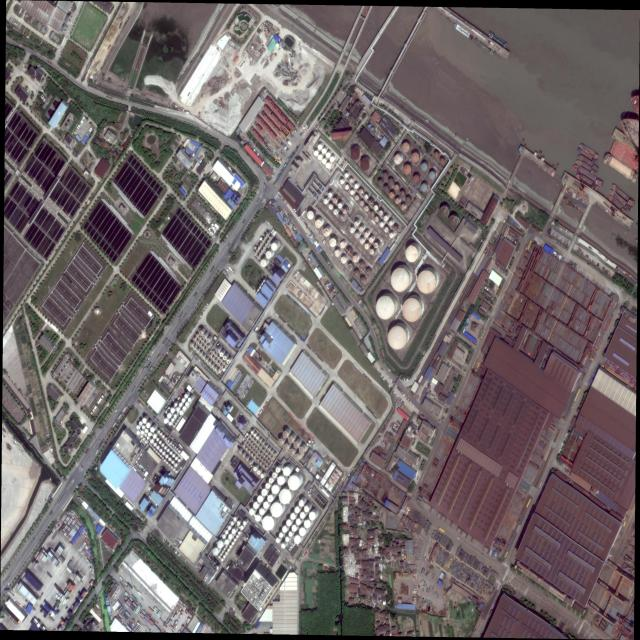large-vehicle: (228, 265, 234, 273), (122, 404, 128, 412), (165, 339, 170, 348), (99, 439, 104, 448), (112, 419, 117, 427), (107, 428, 112, 436), (85, 447, 90, 454), (157, 353, 162, 360), (142, 362, 147, 369), (117, 412, 122, 419), (95, 448, 99, 456), (264, 182, 266, 190)
ship: (603, 152, 638, 184), (572, 163, 604, 187), (609, 188, 633, 213), (611, 183, 635, 207), (575, 172, 599, 192), (487, 31, 509, 50), (608, 195, 628, 215), (577, 154, 599, 172), (453, 23, 475, 41), (575, 159, 598, 176), (577, 147, 598, 165), (475, 38, 496, 56), (579, 142, 599, 159)
storage-tank: (375, 296, 395, 320), (388, 325, 407, 350), (417, 270, 436, 294), (402, 299, 421, 322), (391, 269, 409, 292), (405, 246, 418, 263), (270, 503, 283, 518), (262, 516, 275, 530), (288, 476, 300, 491), (280, 489, 291, 504), (449, 215, 458, 228), (360, 159, 370, 170), (440, 206, 449, 218), (351, 148, 360, 160), (402, 142, 410, 153), (277, 476, 285, 486), (394, 155, 402, 165), (411, 153, 419, 163), (283, 467, 291, 476), (412, 175, 420, 184), (272, 485, 279, 495), (404, 165, 411, 175), (307, 211, 314, 220), (323, 228, 330, 237), (299, 527, 306, 536), (212, 548, 219, 556), (304, 520, 311, 528), (309, 512, 316, 520), (315, 220, 322, 228), (265, 251, 272, 259), (421, 163, 428, 171), (421, 184, 428, 192), (353, 270, 360, 278), (330, 238, 336, 247), (429, 171, 435, 180), (263, 502, 270, 509), (260, 260, 267, 267), (295, 536, 301, 544), (271, 243, 277, 251), (94, 308, 100, 316), (340, 241, 346, 249), (359, 261, 365, 269), (253, 502, 259, 509), (255, 515, 261, 522), (217, 541, 223, 548), (288, 437, 294, 444), (278, 439, 284, 446), (289, 449, 295, 456), (299, 447, 305, 454), (290, 513, 296, 520), (282, 526, 288, 533), (286, 519, 292, 526), (341, 257, 347, 264), (249, 508, 254, 516), (258, 495, 263, 503), (283, 431, 288, 439), (347, 248, 352, 256), (353, 255, 358, 263), (259, 509, 265, 515), (294, 507, 300, 513), (283, 445, 289, 451), (262, 489, 267, 496), (268, 495, 273, 502), (300, 512, 305, 519), (299, 500, 304, 507), (295, 454, 300, 461), (292, 525, 297, 532), (384, 186, 389, 193), (378, 180, 383, 187), (383, 172, 388, 179), (389, 192, 394, 199), (388, 178, 393, 185), (394, 184, 399, 191), (401, 203, 406, 210), (369, 199, 374, 206), (369, 211, 374, 218), (374, 216, 379, 223), (335, 250, 340, 257), (348, 264, 353, 271), (366, 269, 371, 276), (265, 483, 270, 489), (269, 477, 274, 483), (272, 472, 277, 478), (228, 534, 233, 540), (304, 506, 309, 512), (294, 442, 299, 448), (296, 519, 301, 525), (163, 418, 168, 424), (170, 407, 175, 413), (150, 427, 155, 433), (328, 204, 333, 210), (333, 209, 338, 215), (374, 243, 379, 249), (379, 222, 384, 228), (384, 227, 389, 233), (388, 221, 393, 227), (393, 226, 398, 232), (400, 191, 405, 197), (395, 198, 400, 204), (373, 205, 378, 211), (434, 152, 439, 158), (440, 159, 445, 165), (326, 163, 331, 169), (330, 156, 335, 162), (364, 232, 369, 238), (354, 221, 359, 227), (361, 278, 365, 285), (314, 150, 318, 157), (142, 419, 147, 424), (323, 199, 328, 204), (389, 233, 394, 238), (322, 159, 327, 164), (318, 155, 323, 160), (276, 467, 280, 473), (276, 537, 280, 543), (279, 532, 283, 538), (406, 197, 410, 203), (370, 249, 374, 255), (360, 238, 364, 244), (344, 173, 348, 179), (355, 195, 359, 201), (364, 194, 368, 200), (365, 206, 369, 212), (379, 210, 383, 216), (328, 192, 332, 198), (333, 198, 337, 204), (338, 203, 342, 209), (355, 233, 359, 239), (359, 227, 363, 233), (318, 144, 322, 150), (222, 534, 226, 539), (233, 517, 237, 522), (232, 529, 236, 534), (225, 540, 229, 545), (243, 521, 247, 526), (257, 470, 261, 475), (253, 466, 257, 471), (285, 537, 289, 542), (289, 532, 293, 537), (185, 402, 189, 407), (167, 413, 171, 418), (153, 434, 157, 439), (179, 402, 183, 407), (216, 349, 220, 354), (369, 238, 373, 243), (384, 216, 388, 221), (340, 179, 344, 184), (345, 185, 349, 190), (349, 179, 353, 184), (354, 184, 358, 189), (350, 190, 354, 195), (359, 189, 363, 194), (360, 201, 364, 206), (343, 209, 347, 214), (365, 244, 369, 249), (350, 228, 354, 233), (322, 149, 326, 154), (326, 153, 330, 158), (282, 543, 285, 549), (207, 338, 210, 344), (213, 368, 217, 372), (240, 526, 244, 530), (241, 454, 245, 458), (174, 403, 178, 407), (184, 394, 188, 398), (153, 443, 157, 447), (148, 432, 152, 436), (150, 439, 154, 443), (188, 398, 192, 402), (180, 411, 184, 415), (227, 360, 231, 364), (223, 356, 227, 360), (203, 335, 207, 339), (228, 525, 231, 530), (231, 521, 234, 526), (237, 521, 240, 526), (238, 450, 241, 455), (245, 457, 248, 462), (249, 461, 252, 466), (182, 398, 185, 403), (139, 421, 142, 426), (147, 423, 150, 428), (142, 425, 145, 430), (183, 406, 186, 411), (177, 407, 180, 412), (220, 352, 223, 357), (227, 548, 230, 552), (223, 555, 226, 559), (207, 362, 210, 366), (210, 365, 213, 369), (217, 370, 220, 374), (225, 530, 228, 534), (202, 356, 205, 360), (261, 474, 264, 478), (205, 359, 208, 363), (199, 353, 202, 357), (164, 446, 167, 450), (167, 449, 170, 453), (168, 457, 171, 461), (178, 459, 181, 463), (157, 446, 160, 450), (137, 431, 140, 435), (141, 431, 144, 435), (145, 429, 148, 433), (156, 438, 159, 442), (196, 350, 199, 354), (196, 341, 199, 345), (201, 346, 204, 350), (204, 349, 207, 353), (217, 356, 220, 360), (225, 364, 228, 368), (209, 355, 212, 359), (212, 357, 215, 361), (190, 344, 193, 348), (193, 338, 196, 342), (174, 414, 177, 418), (171, 418, 174, 422), (169, 422, 172, 426), (200, 332, 203, 336), (368, 124, 371, 128), (371, 127, 374, 131), (262, 449, 265, 453), (256, 436, 259, 440), (261, 442, 264, 446), (267, 448, 270, 452), (137, 426, 140, 430), (175, 463, 177, 468), (225, 552, 228, 555), (238, 532, 241, 535), (175, 457, 178, 460), (170, 452, 173, 455), (171, 461, 174, 464), (144, 434, 147, 437), (143, 438, 146, 441), (145, 441, 148, 444), (222, 362, 225, 365), (220, 366, 223, 369), (222, 369, 225, 372), (193, 347, 196, 350), (196, 335, 199, 338), (201, 340, 204, 343), (245, 448, 248, 451), (243, 441, 246, 444), (250, 454, 253, 457), (160, 433, 163, 436), (248, 435, 251, 438), (258, 456, 261, 459), (259, 462, 262, 465), (265, 457, 268, 460), (265, 463, 268, 466), (265, 452, 268, 455), (252, 445, 255, 448), (256, 444, 259, 447), (253, 434, 256, 437), (270, 451, 273, 454), (257, 450, 260, 453), (255, 453, 258, 456), (234, 538, 236, 542), (160, 449, 162, 453), (166, 455, 168, 459), (173, 454, 175, 458), (141, 435, 143, 439), (147, 436, 149, 440), (212, 351, 214, 355), (215, 360, 217, 364), (218, 363, 220, 367), (207, 345, 209, 349), (204, 342, 206, 346), (199, 337, 201, 341), (265, 467, 267, 471), (253, 456, 255, 460), (256, 459, 258, 463), (265, 445, 267, 449), (221, 559, 223, 562), (232, 542, 234, 545), (236, 535, 238, 538), (163, 452, 165, 455), (162, 444, 164, 447), (159, 441, 161, 444), (199, 344, 201, 347), (215, 354, 217, 357), (220, 360, 222, 363), (242, 445, 244, 448), (170, 442, 172, 445), (172, 444, 175, 446), (176, 448, 178, 451), (179, 450, 181, 453), (248, 451, 250, 454), (246, 444, 248, 447), (248, 446, 250, 449), (250, 449, 253, 451), (246, 438, 248, 441), (248, 441, 251, 443), (158, 430, 160, 433), (250, 443, 252, 446), (251, 438, 253, 441), (260, 453, 262, 456), (262, 465, 264, 468), (263, 461, 265, 464), (268, 455, 270, 458), (273, 454, 275, 457), (271, 457, 273, 460), (268, 460, 270, 463), (263, 455, 265, 458), (254, 441, 256, 444), (253, 451, 255, 454), (255, 448, 257, 451), (251, 431, 253, 434), (259, 440, 261, 443), (259, 446, 261, 449), (230, 546, 232, 548), (163, 436, 165, 438), (165, 438, 167, 440), (175, 446, 177, 448), (261, 459, 263, 461), (168, 440, 169, 443)
